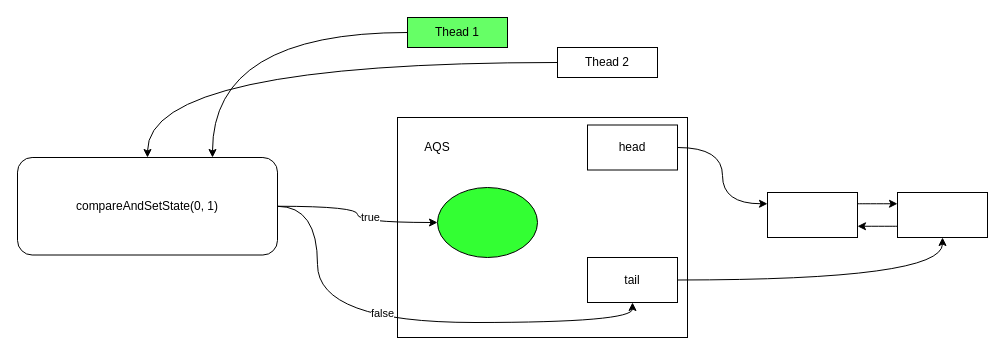
Some shapes in this 1005 by 355 pixel diagram are drawn without their labels. The shapes that lost their labels are listed below. From the top down, each one's box as (x1, y1, x2, y2) in pixels, then its label:
(436, 186, 538, 258): state=1
(766, 192, 858, 238): Node 1
(896, 192, 988, 238): Node 2
